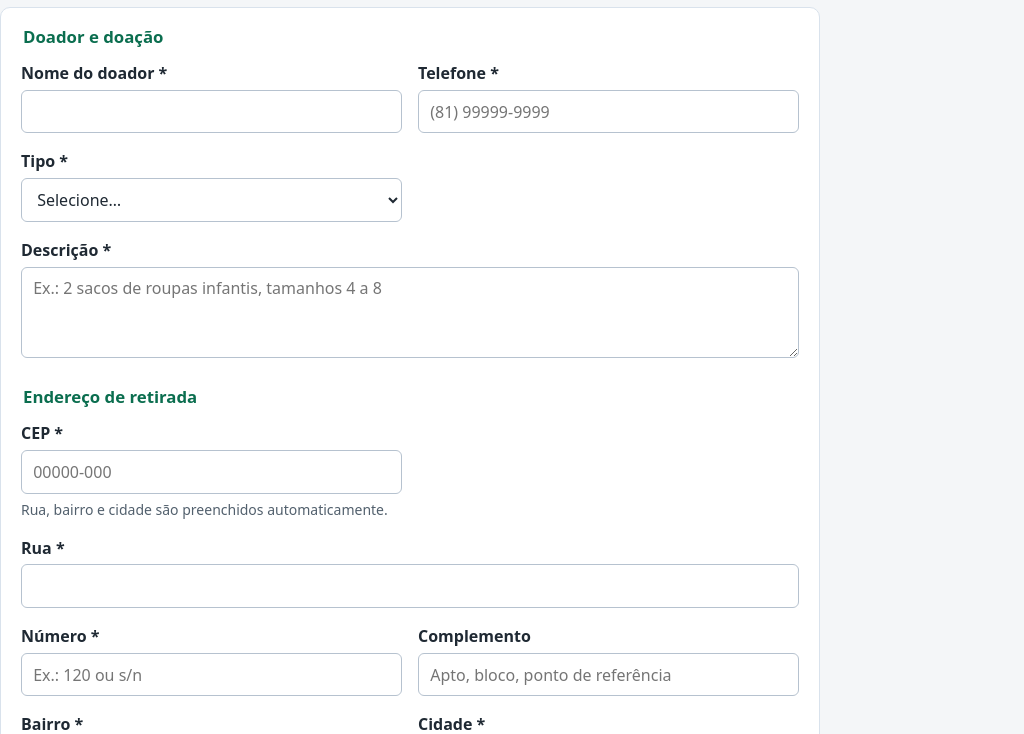
Test case: envio completo salva os dados normalizados, avisa e limpa o formulário
Type "Maria da Silva" into the field labelled "Nome do doador". click: [212, 112]
box: top-left (21, 90), bottom-right (402, 133)
Type "81999998888" into the field labelled "Telefone". click: [608, 112]
box: top-left (418, 90), bottom-right (799, 133)
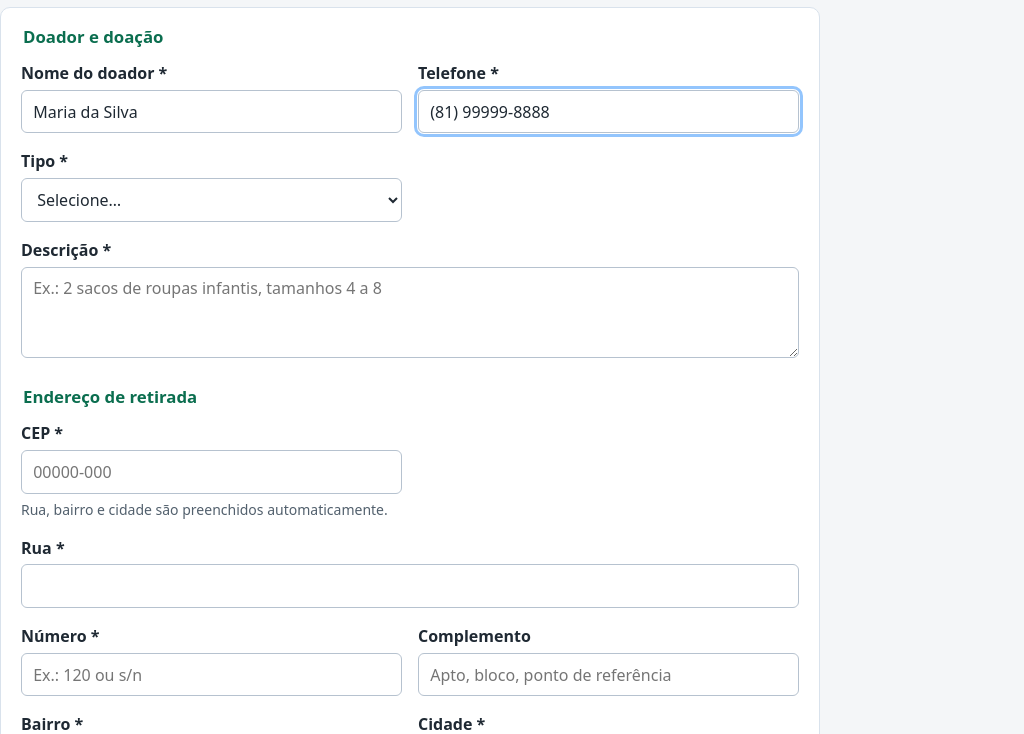
Select "Roupas" in the dropdown labelled "Tipo". click: [212, 200]
box: top-left (21, 178), bottom-right (402, 222)
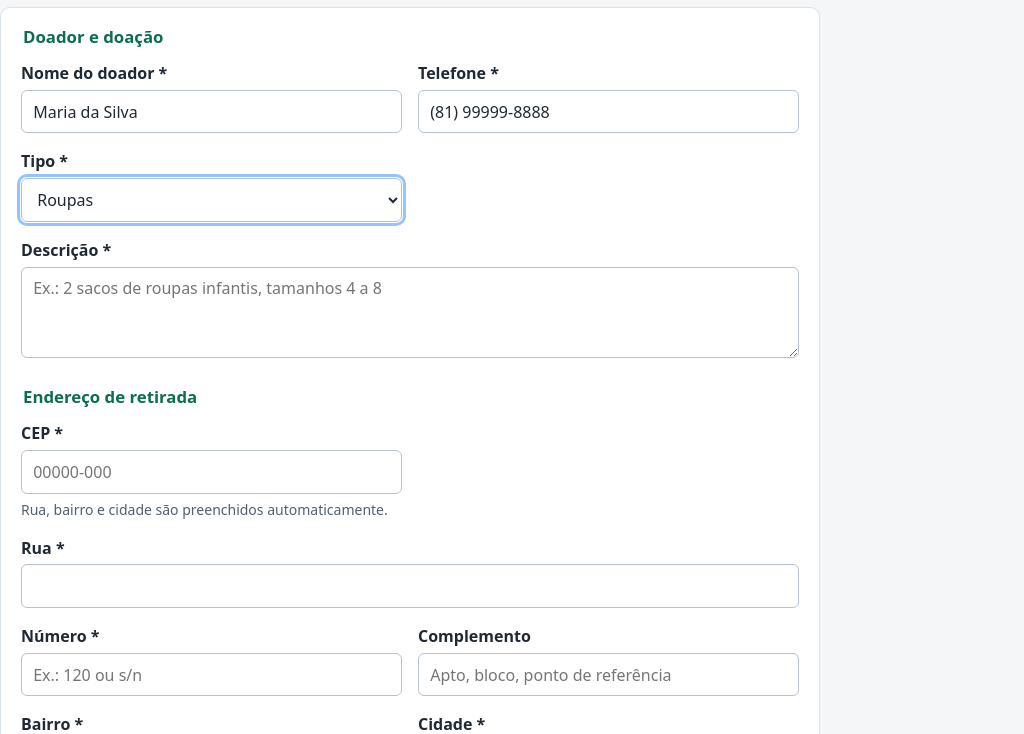
Type "Dois sacos de roupas infantis" into the text box labelled "Descrição". click: [410, 312]
box: top-left (21, 267), bottom-right (799, 358)
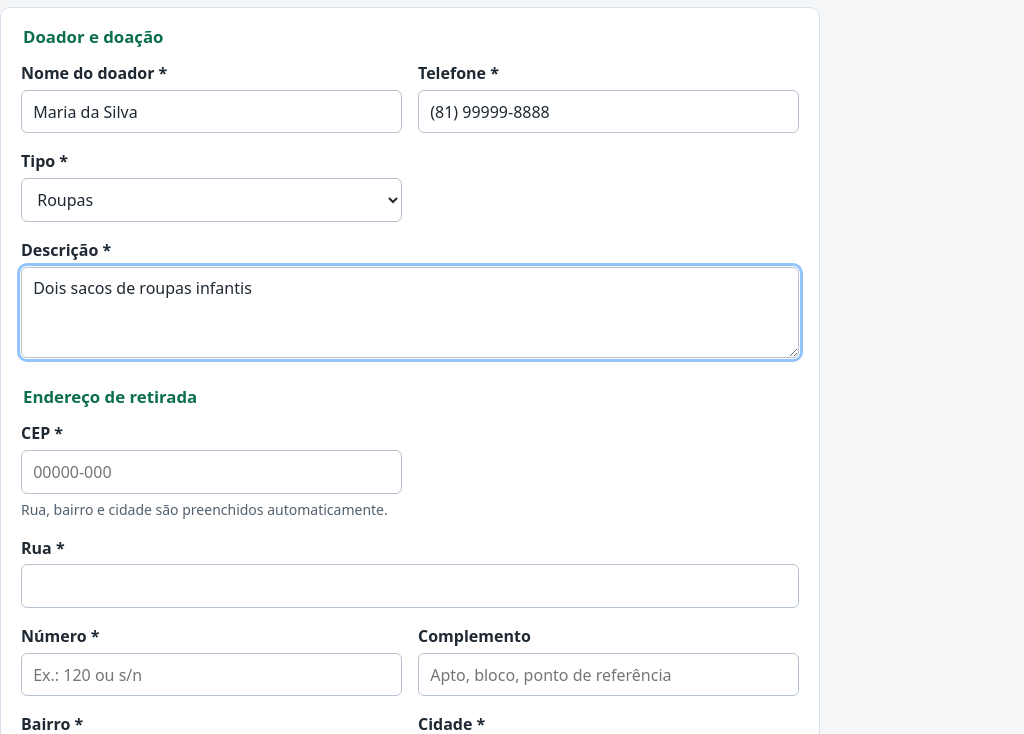
Type "50030230" into the field labelled "CEP". click: [212, 472]
box: top-left (21, 450), bottom-right (402, 494)
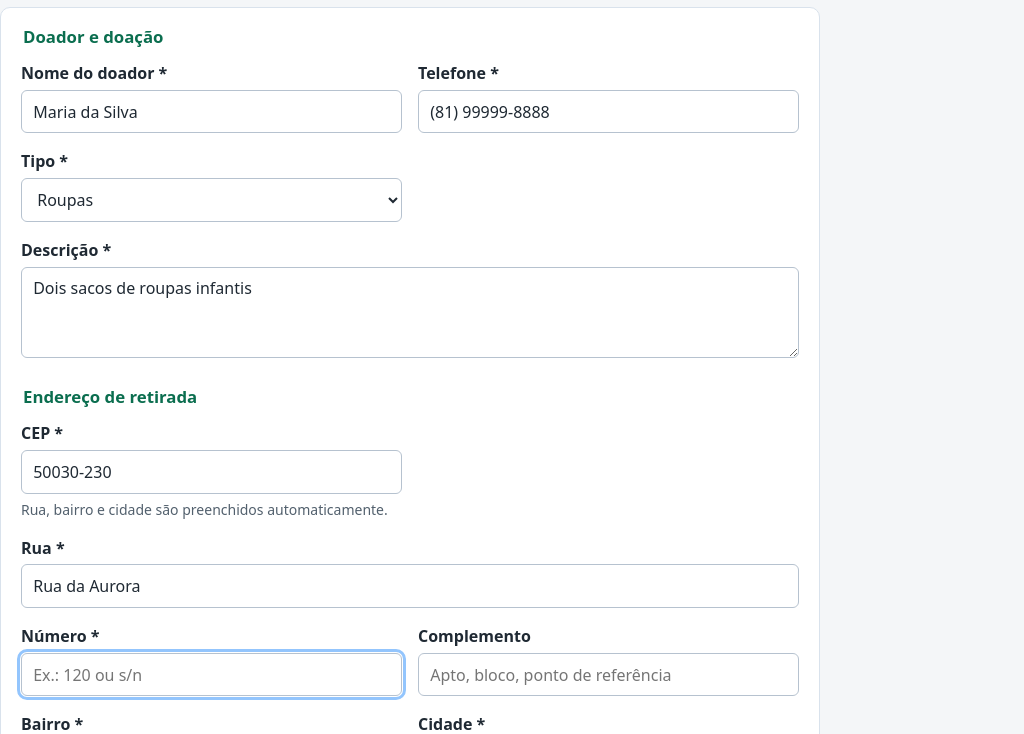
expect the field labelled "Rua" holds "Rua da Aurora": met, box top-left (21, 564), bottom-right (799, 608)
Type "120" into the field labelled "Número". click: [212, 674]
box: top-left (21, 653), bottom-right (402, 696)
(page scrolled)
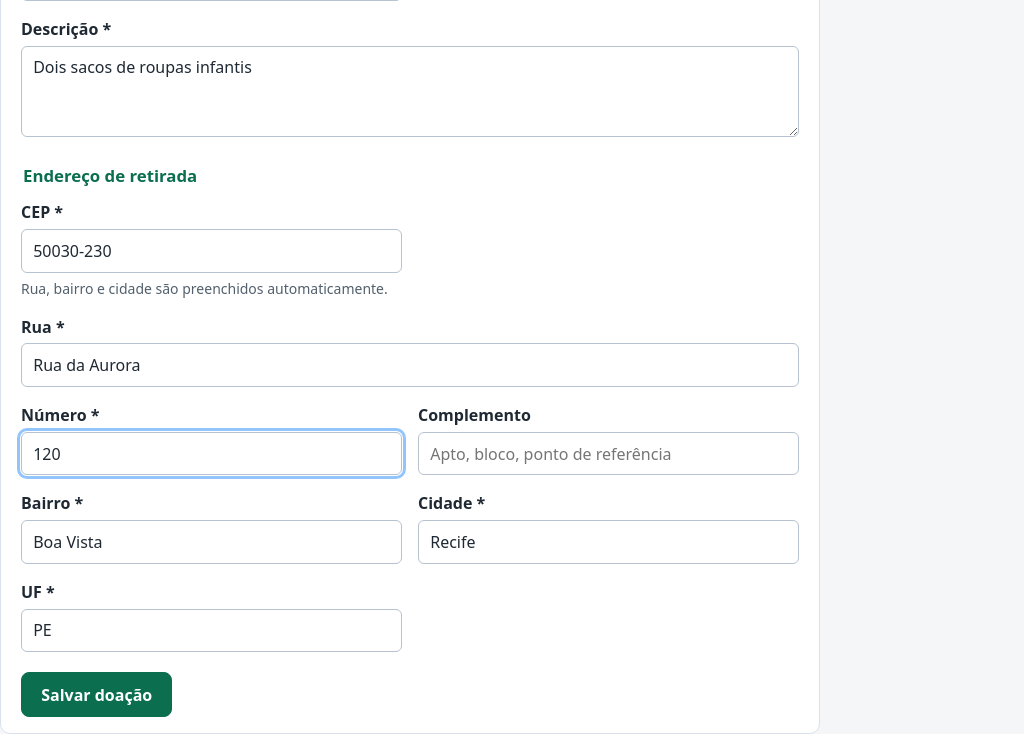
Click the button "Salvar doação". click: [97, 695]
box: top-left (21, 672), bottom-right (172, 717)
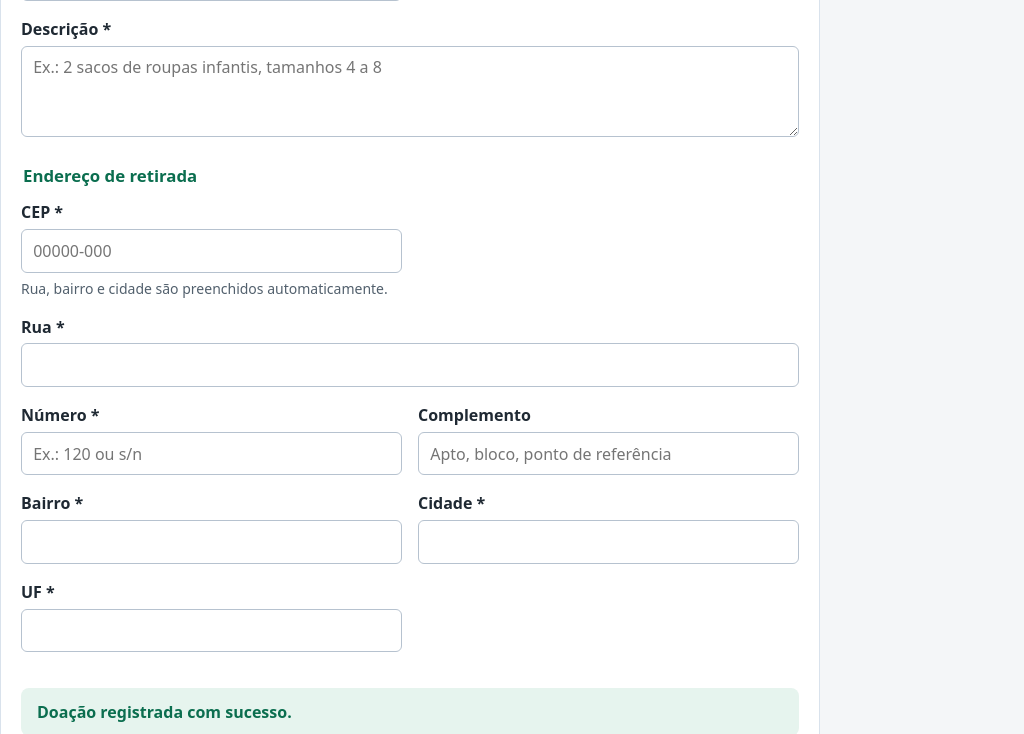
expect the field labelled "Rua" is empty: met, box top-left (21, 343), bottom-right (799, 387)
